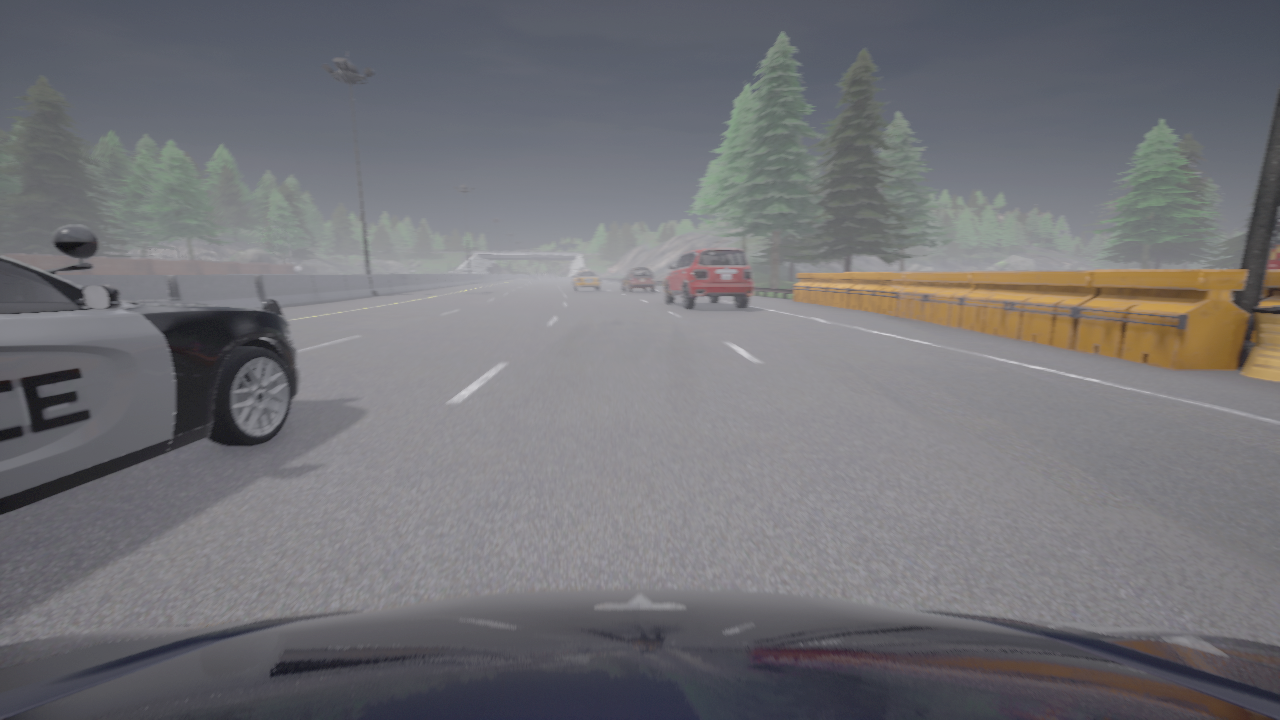cyclist: (0, 588, 1279, 719), (0, 225, 301, 515), (664, 248, 752, 309), (622, 268, 654, 292), (1266, 214, 1279, 269), (572, 269, 600, 291)
